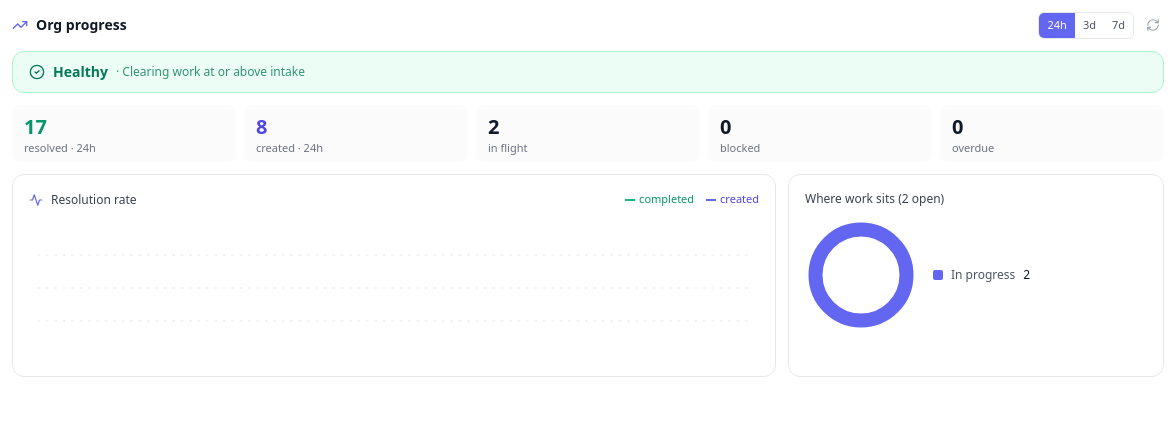
it: Org progress charts with the real hook › keeps actual figures and as-of information visible during failure and recovers
Expected: the text "17" is shown, [24, 112, 47, 140]
Click the button titled "Refresh" at (1153, 25), box [1142, 14, 1164, 36]
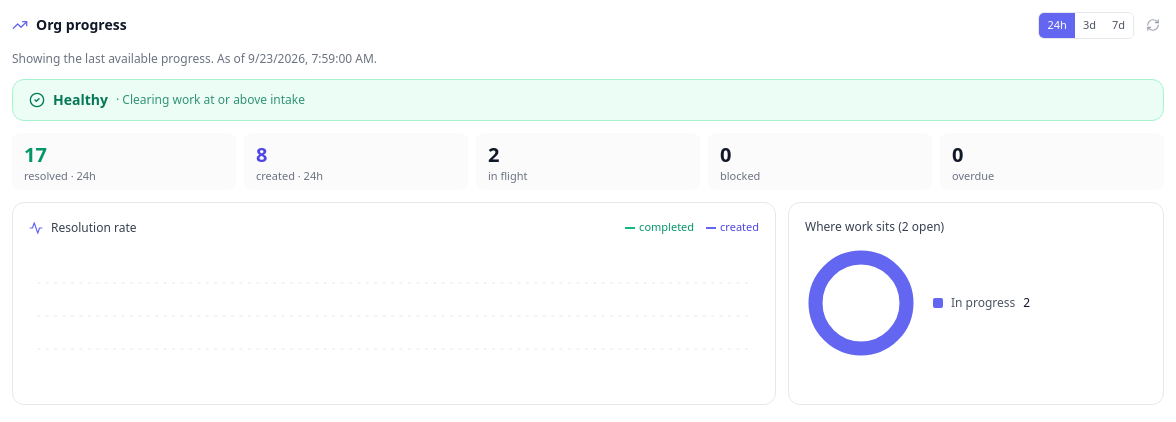
Expected: the text "17" is shown, [24, 140, 47, 168]
Expected: the message shows "Showing the last available progress.", [12, 50, 214, 66]
Click the button titled "Refresh" at (1153, 25), box [1142, 14, 1164, 36]
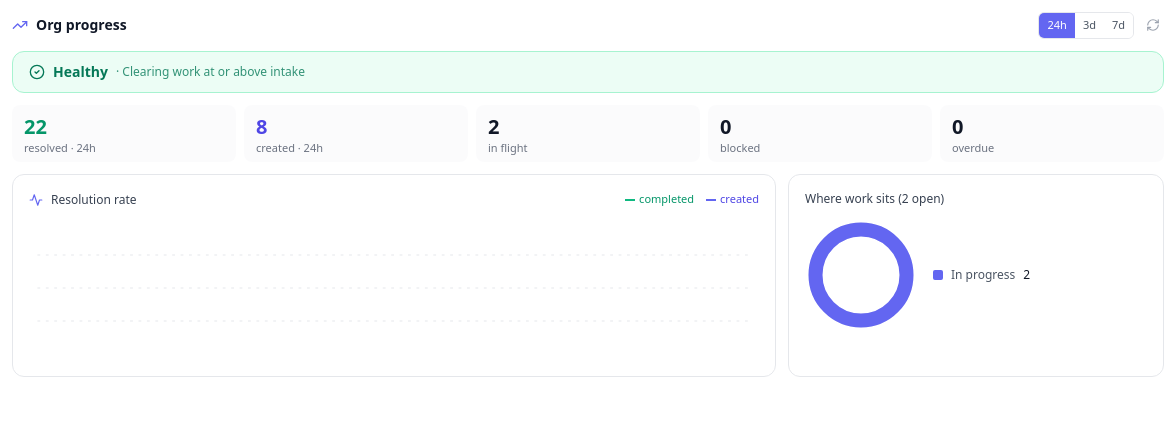
Expected: the text "22" is shown, [24, 112, 47, 140]
Expected: the message "Showing the last available progress. As of 9/23/2026, 7:59:00 AM." is gone
